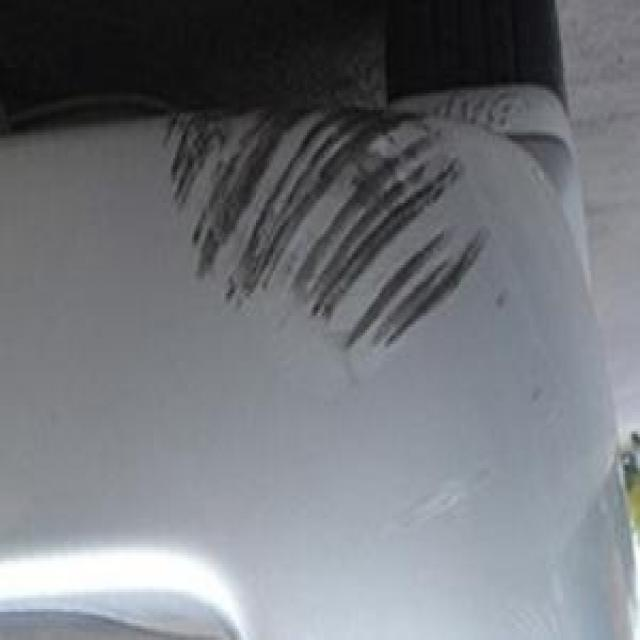scratch: (150, 100, 530, 371)
